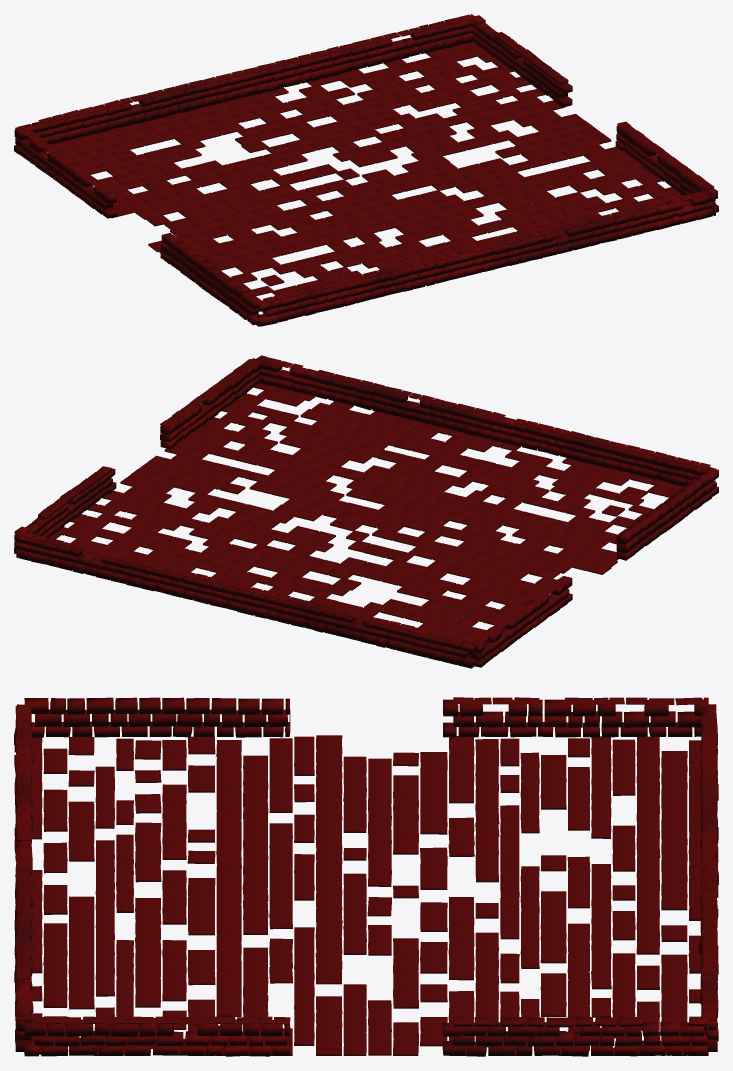
The model's file is keth_pass_arena.glb.
The picture shows the model from 3 angles, top to bottom: view 1: azimuth 30°, elevation 25°; view 2: azimuth 150°, elevation 25°; view 3: azimuth 270°, elevation 25°; orthographic projection. The views are drawn at different scales.
Visible parts, largest first — view 1: keth_pass_arena; view 2: keth_pass_arena; view 3: keth_pass_arena.
Part boxes in pixels (x1,y1,x2,y2): keth_pass_arena: [14, 14, 718, 326]; keth_pass_arena: [14, 355, 718, 668]; keth_pass_arena: [14, 697, 718, 1056].
Size of what is drawn, in the model's own units: 22.57 by 1.19 by 20.56.
